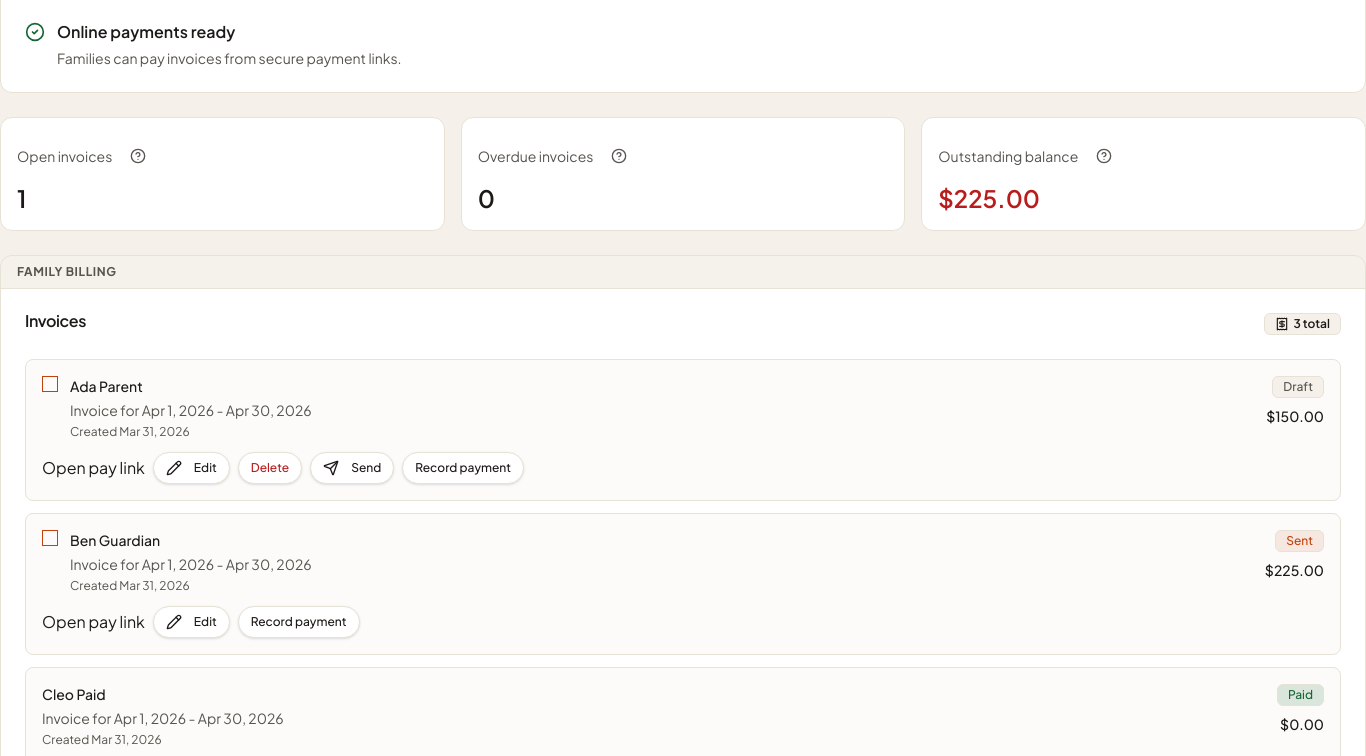
Test: BillingPage - bulk invoice actions › removes invoices from the bulk selection when unchecked
The width and height of the screenshot is (1366, 756).
(page scrolled)
Click the checkbox named "Select invoice for Ada Parent".
click(50, 384)  # box [42,376,58,392]
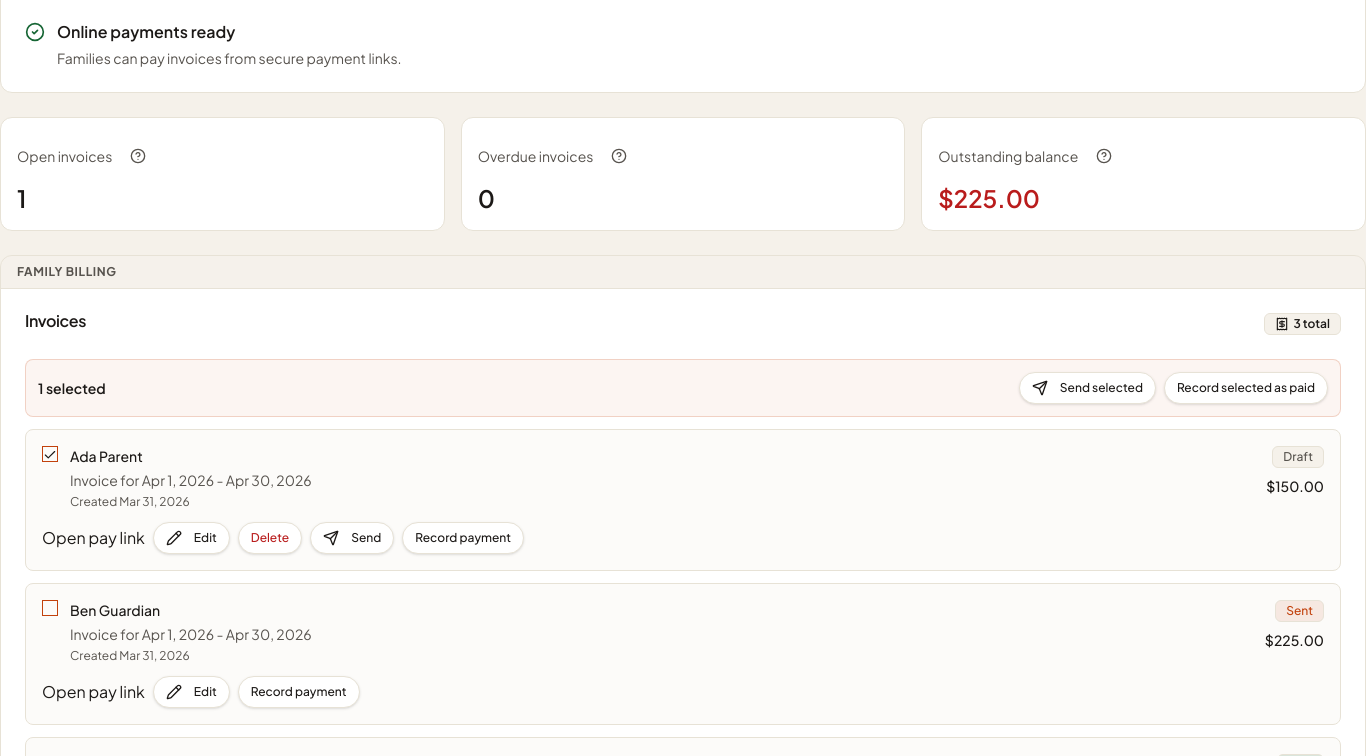
Click the checkbox named "Select invoice for Ada Parent".
click(50, 454)  # box [42,446,58,462]
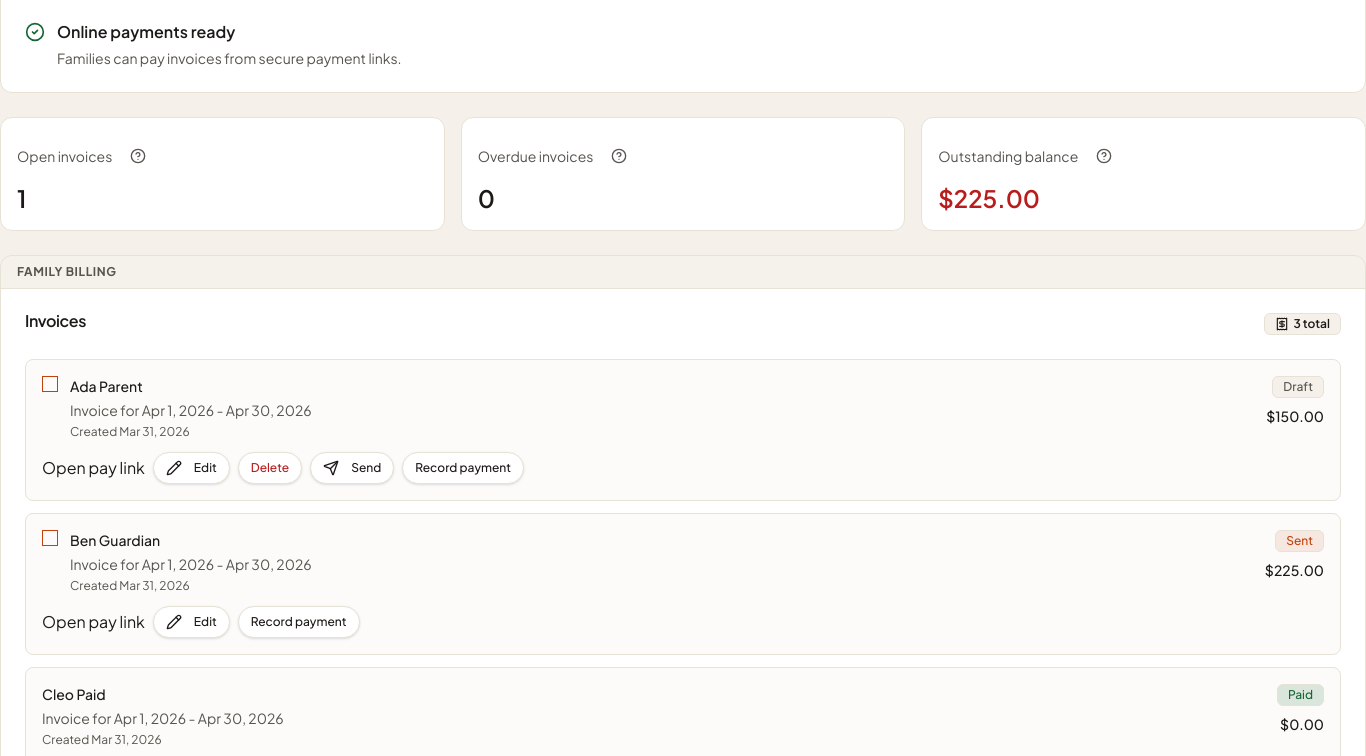
Expected: the checkbox named "Select invoice for Ada Parent" is not checked, [42,376,58,392]
Expected: the text "1 selected" is gone
